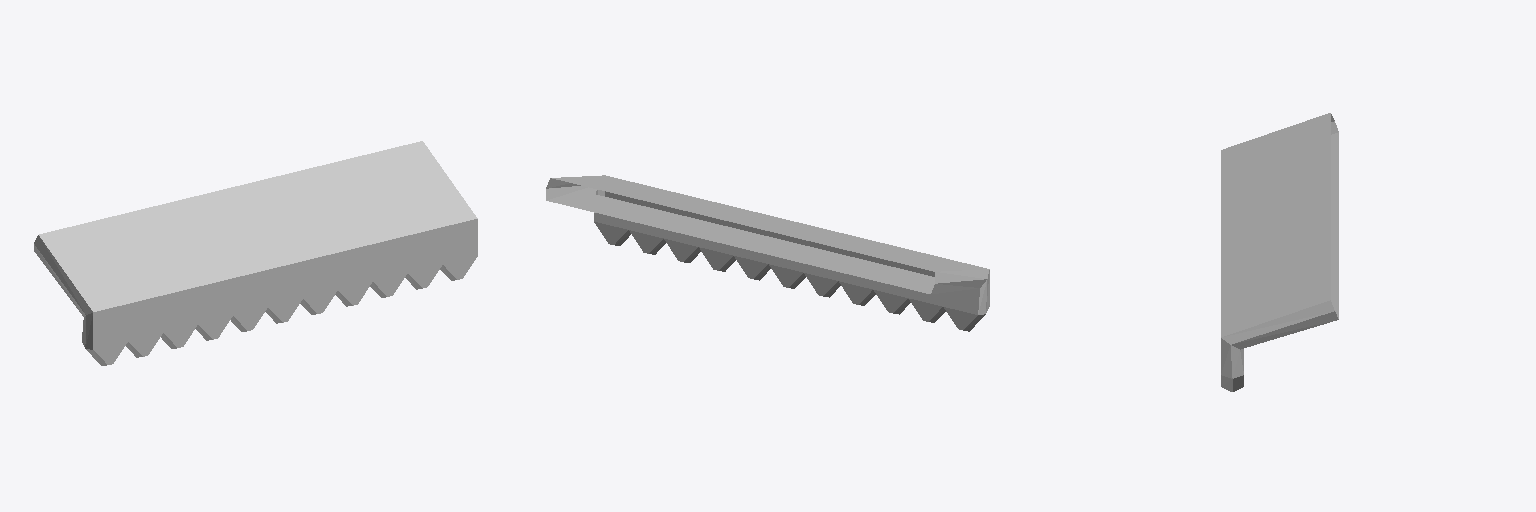
Rendered from awning_yellow.obj.
3 renders of one model, left to right at view 1: azimuth 30°, elevation 25°; view 2: azimuth 150°, elevation 25°; view 3: azimuth 270°, elevation 25°, orthographic.
Visible parts, largest first — view 1: awning_yellow; view 2: awning_yellow; view 3: awning_yellow.
Boxes of the visible parts, <box> form: awning_yellow: <box>34,141,477,365</box>; awning_yellow: <box>546,175,989,331</box>; awning_yellow: <box>1221,113,1338,391</box>.
Size of the model in its own units: 5.8 by 1.42 by 1.52.